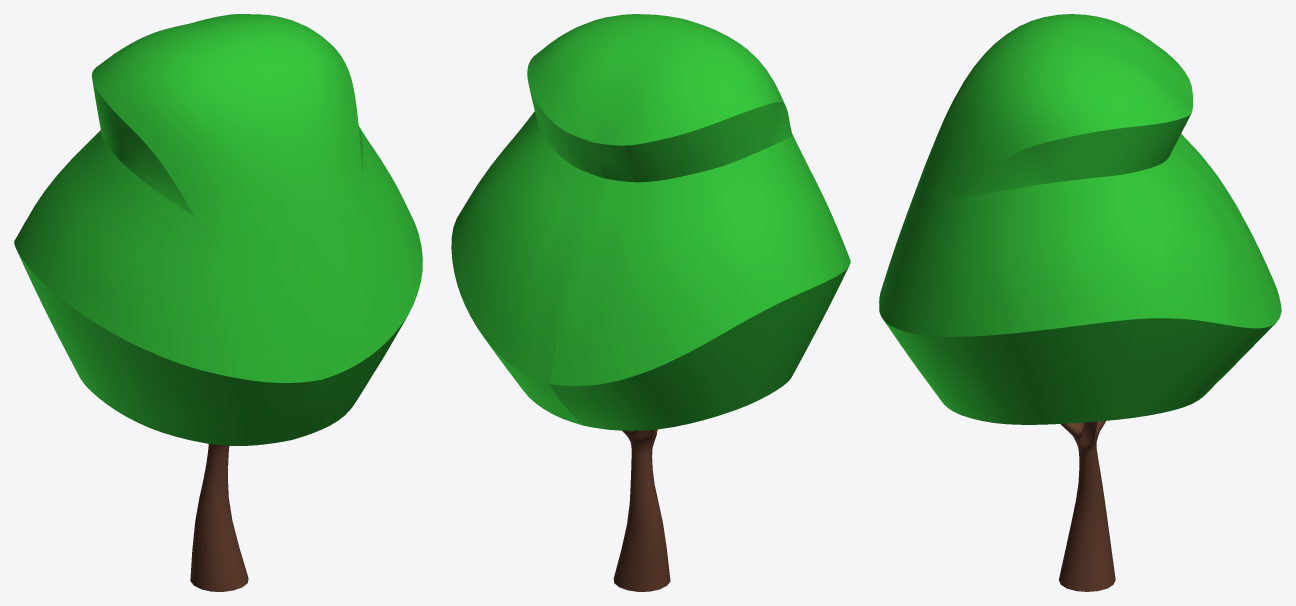
The model's file is tree_01.fbx.
3 views of the same model, side by side, from view 1: azimuth 30°, elevation 25°; view 2: azimuth 150°, elevation 25°; view 3: azimuth 270°, elevation 25° (orthographic). The views are drawn at different scales.
Visible parts, largest first — view 1: tree5_Cube.001; view 2: tree5_Cube.001; view 3: tree5_Cube.001.
Boxes of the visible parts, x1,y1,x2,y2 form: tree5_Cube.001: [14, 14, 422, 591]; tree5_Cube.001: [451, 14, 850, 591]; tree5_Cube.001: [879, 14, 1281, 591].
Size of the model in its own units: 519 by 785 by 527.
